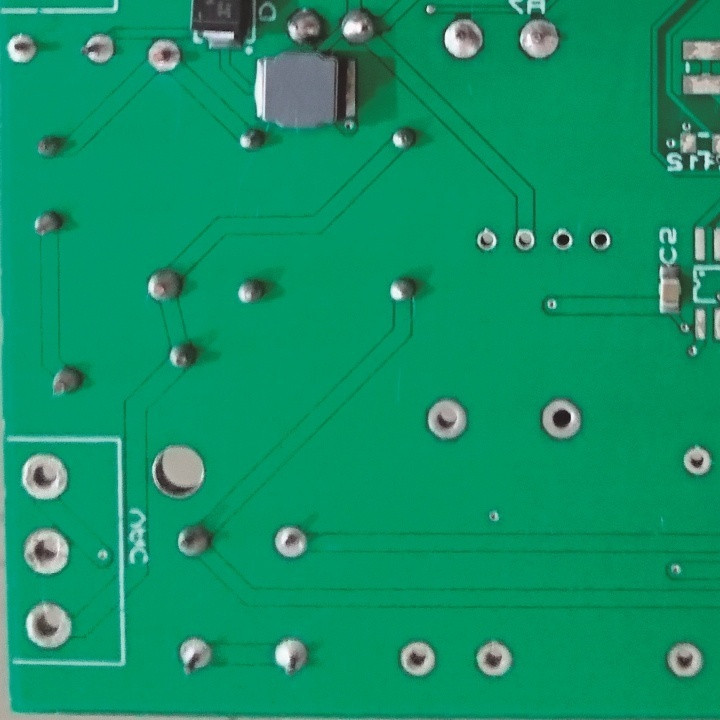F: (21, 528, 76, 581), (24, 601, 75, 655), (18, 454, 73, 504), (426, 400, 476, 446), (539, 396, 587, 443), (515, 17, 564, 60), (441, 18, 486, 61), (473, 637, 514, 682), (663, 638, 704, 682), (273, 636, 311, 683), (397, 639, 438, 679), (176, 635, 213, 676), (144, 36, 183, 74), (268, 523, 309, 559), (78, 32, 118, 67), (679, 441, 716, 478), (5, 33, 41, 67), (511, 227, 541, 258), (471, 228, 504, 254), (549, 227, 581, 253), (587, 229, 616, 253)
